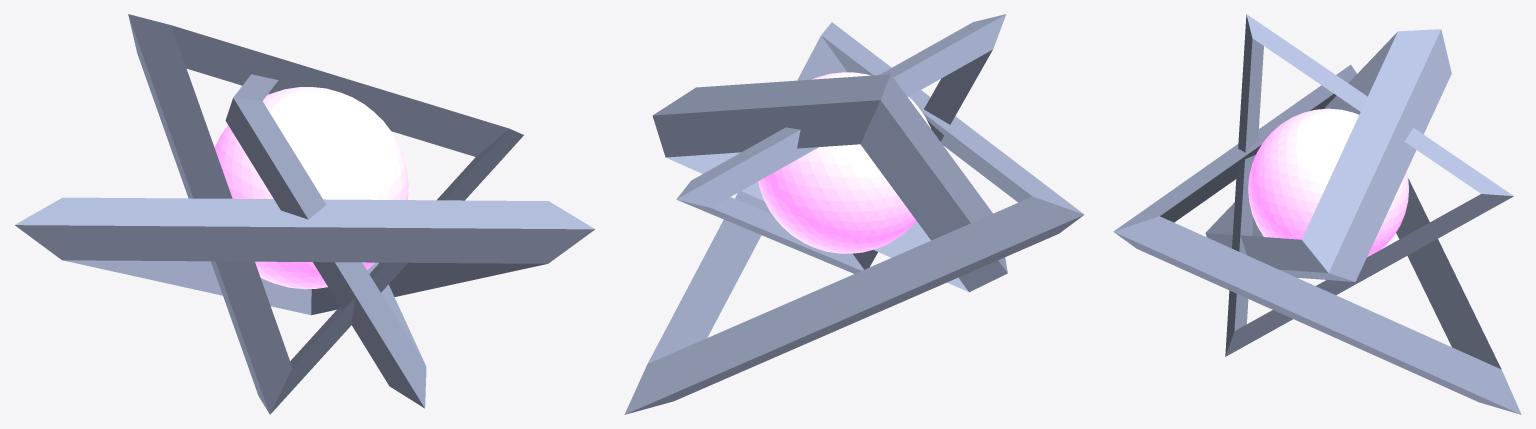
Rendered from Allocentrism.fbx.
3 views of the same model, side by side, from view 1: azimuth 30°, elevation 25°; view 2: azimuth 150°, elevation 25°; view 3: azimuth 270°, elevation 25° (orthographic). The views are drawn at different scales.
Visible parts, largest first — view 1: Torus.002, Torus, Icosphere, Torus.001; view 2: Torus.002, Torus, Torus.001, Icosphere; view 3: Torus.002, Torus, Torus.001, Icosphere.
Part boxes in pixels (<box>): Torus.002: <box>15,197,594,315</box>; Torus: <box>128,14,523,414</box>; Icosphere: <box>214,87,408,289</box>; Torus.001: <box>225,74,426,408</box>; Torus.002: <box>624,22,1084,414</box>; Torus: <box>652,74,1007,292</box>; Torus.001: <box>676,14,1006,273</box>; Icosphere: <box>758,72,930,253</box>; Torus.002: <box>1113,64,1521,414</box>; Torus: <box>1205,29,1451,281</box>; Torus.001: <box>1225,14,1513,356</box>; Icosphere: <box>1248,108,1408,257</box>.
Size of the model in its own units: 565 by 416 by 508.
